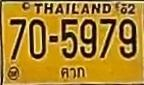0: (28, 18, 46, 58)
5: (61, 18, 77, 57)
7: (9, 18, 25, 59), (99, 18, 115, 57)
9: (119, 18, 136, 57), (79, 18, 96, 57)
BKK: (59, 65, 89, 81)
